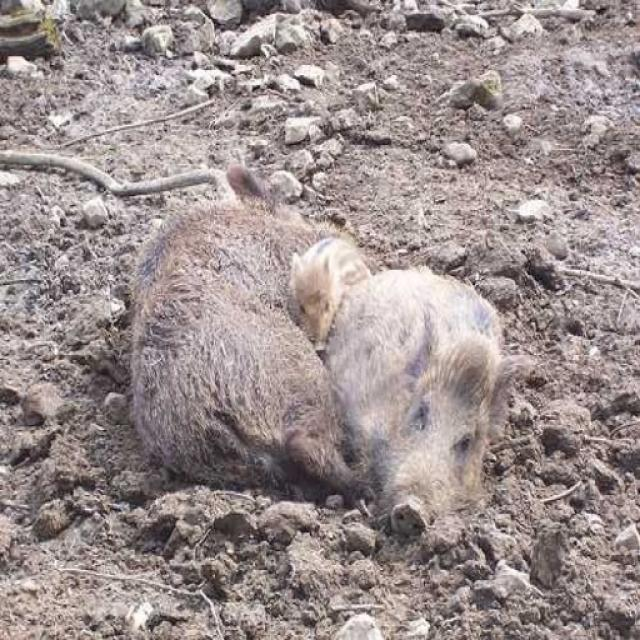pig: (358, 186, 576, 582)
